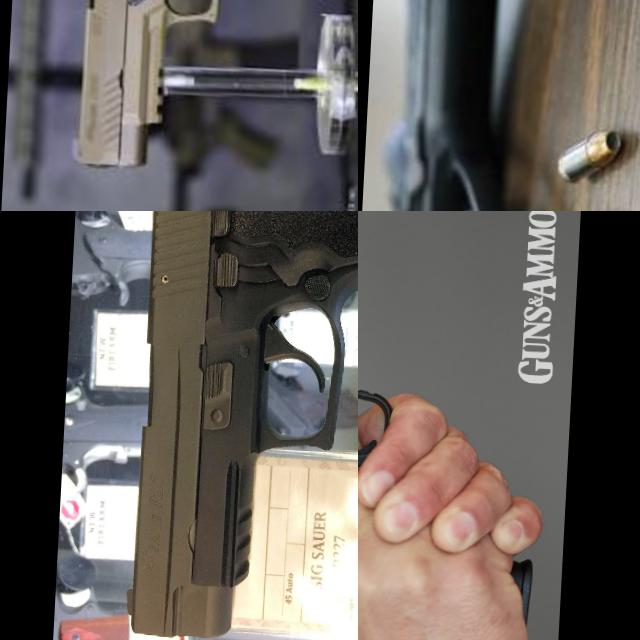handgun: (112, 211, 358, 640), (63, 0, 358, 202), (358, 0, 601, 211), (358, 233, 455, 640)
